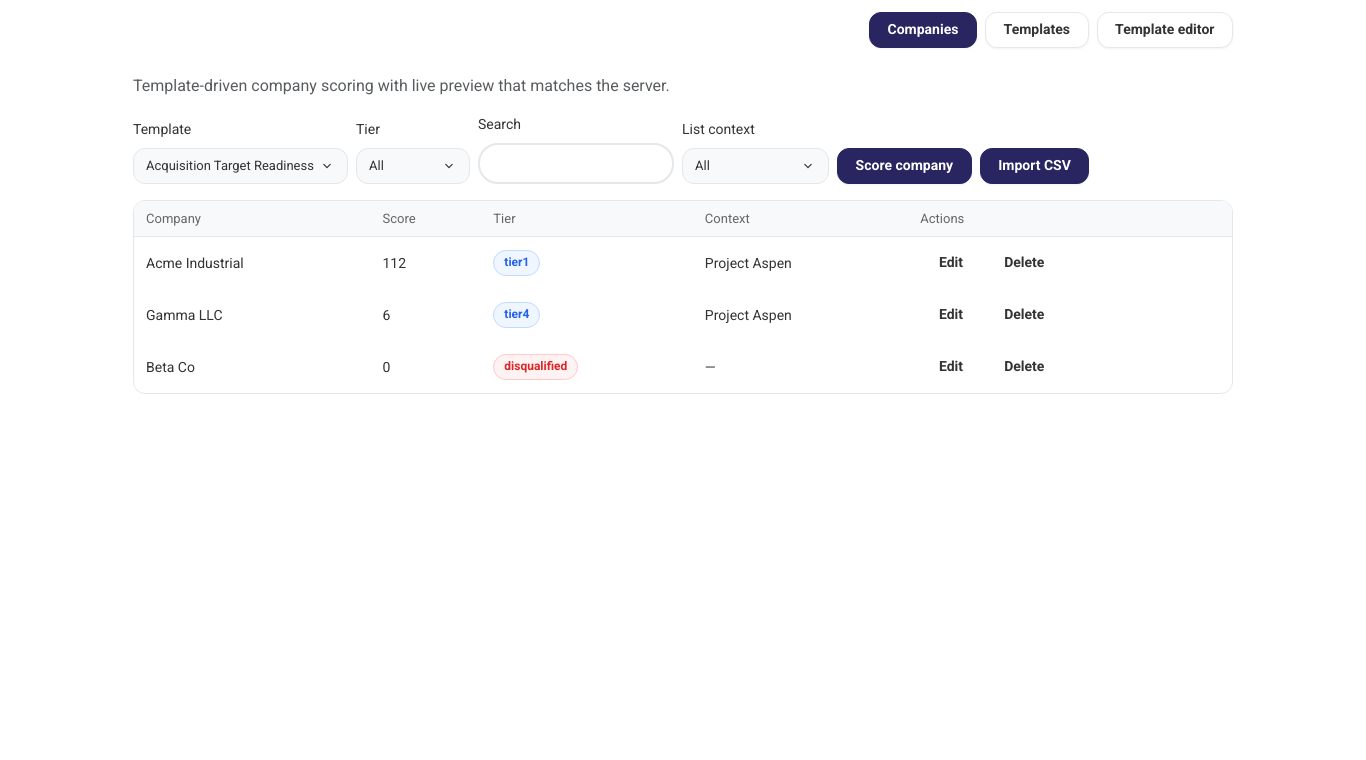
it: BdScoringPage › shows templates and editor tab
Step 1. Click the tab with test id "bd-tab-templates" → (1037, 30), box [985,12,1088,48]
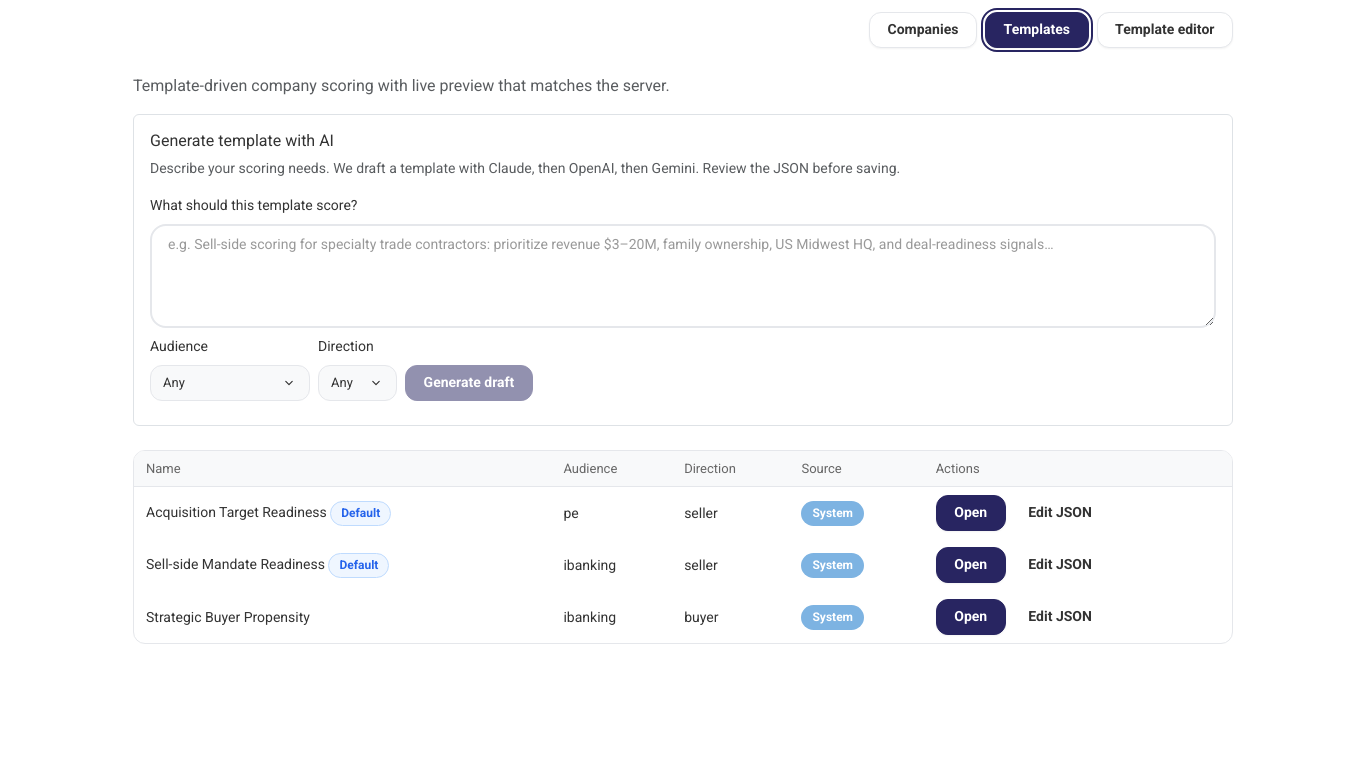
Expected: the text "Sell-side Mandate Readiness Default" is shown, [134,539,552,591]
Expected: the element with test id "bd-generate-panel" is shown, [133,114,1233,426]
Step 2. Click the tab with test id "bd-tab-editor" → (1165, 30), box [1096,12,1233,48]
(page scrolled)
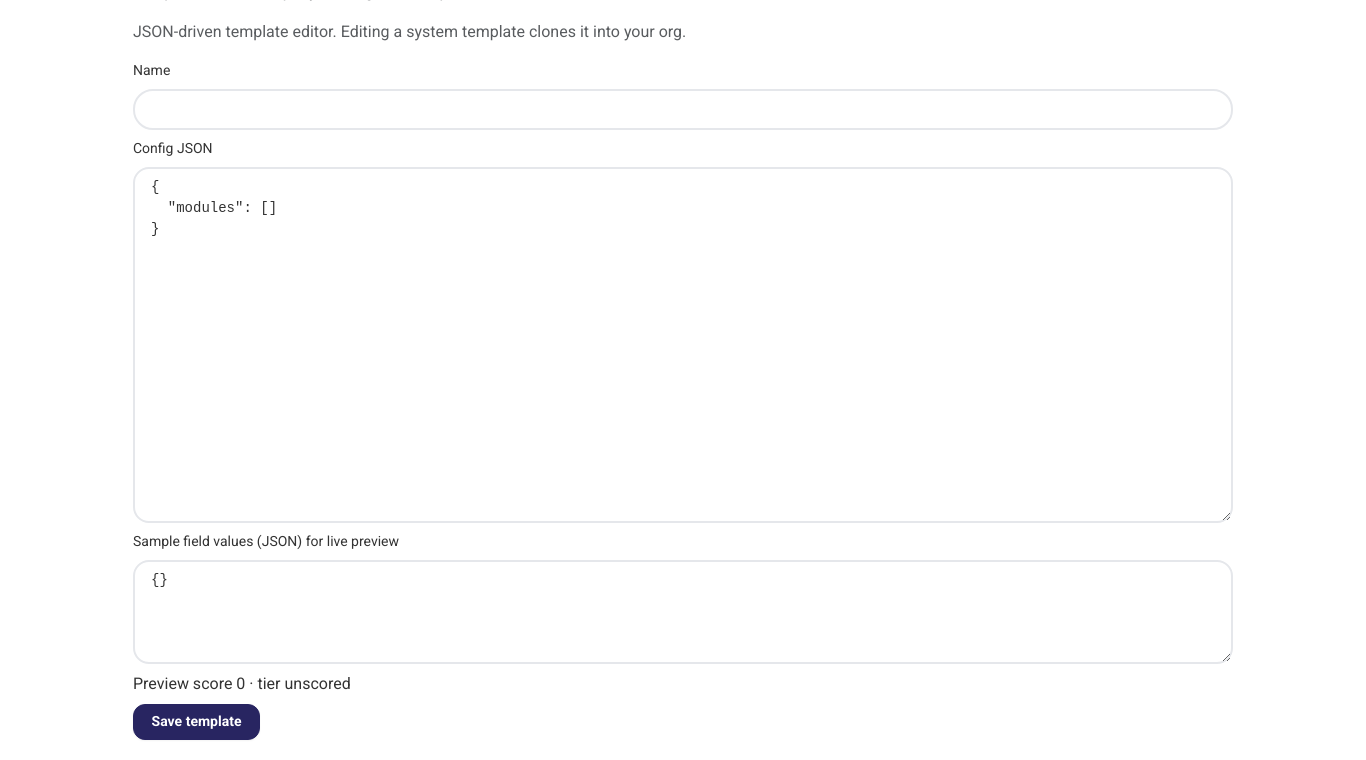
Expected: the element with test id "bd-template-editor" is shown
